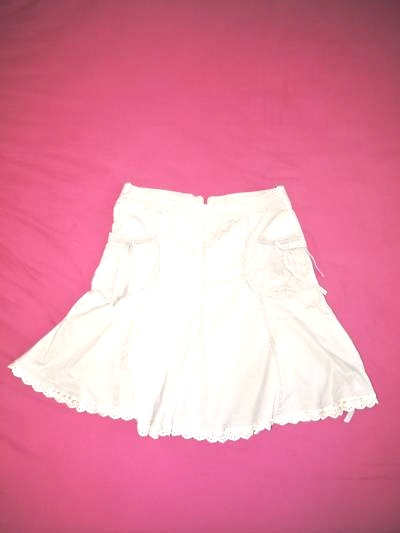Dress: (0, 118, 382, 464)
